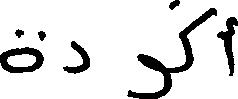X: (181, 3, 213, 76), (0, 24, 42, 77), (129, 49, 168, 98), (219, 12, 237, 80), (64, 36, 87, 78)
